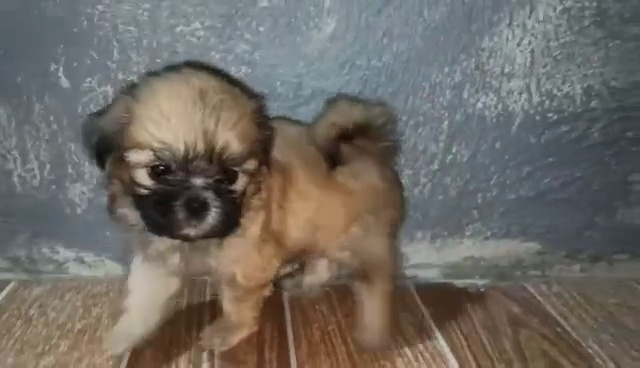dog: (83, 63, 406, 368)
